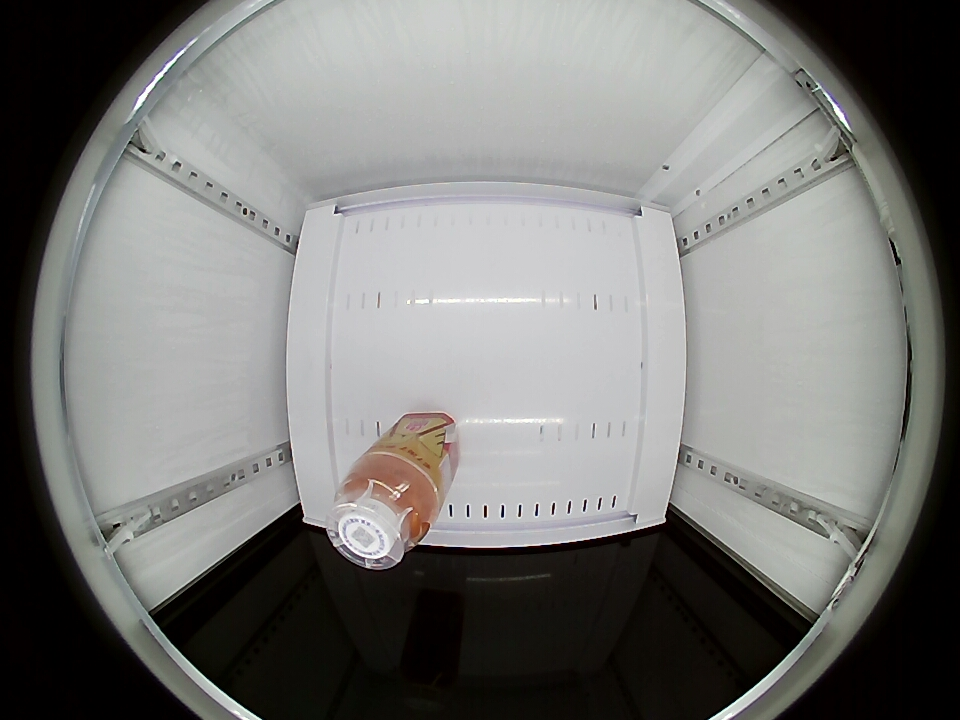dongpeng-b: (329, 454, 440, 570)
